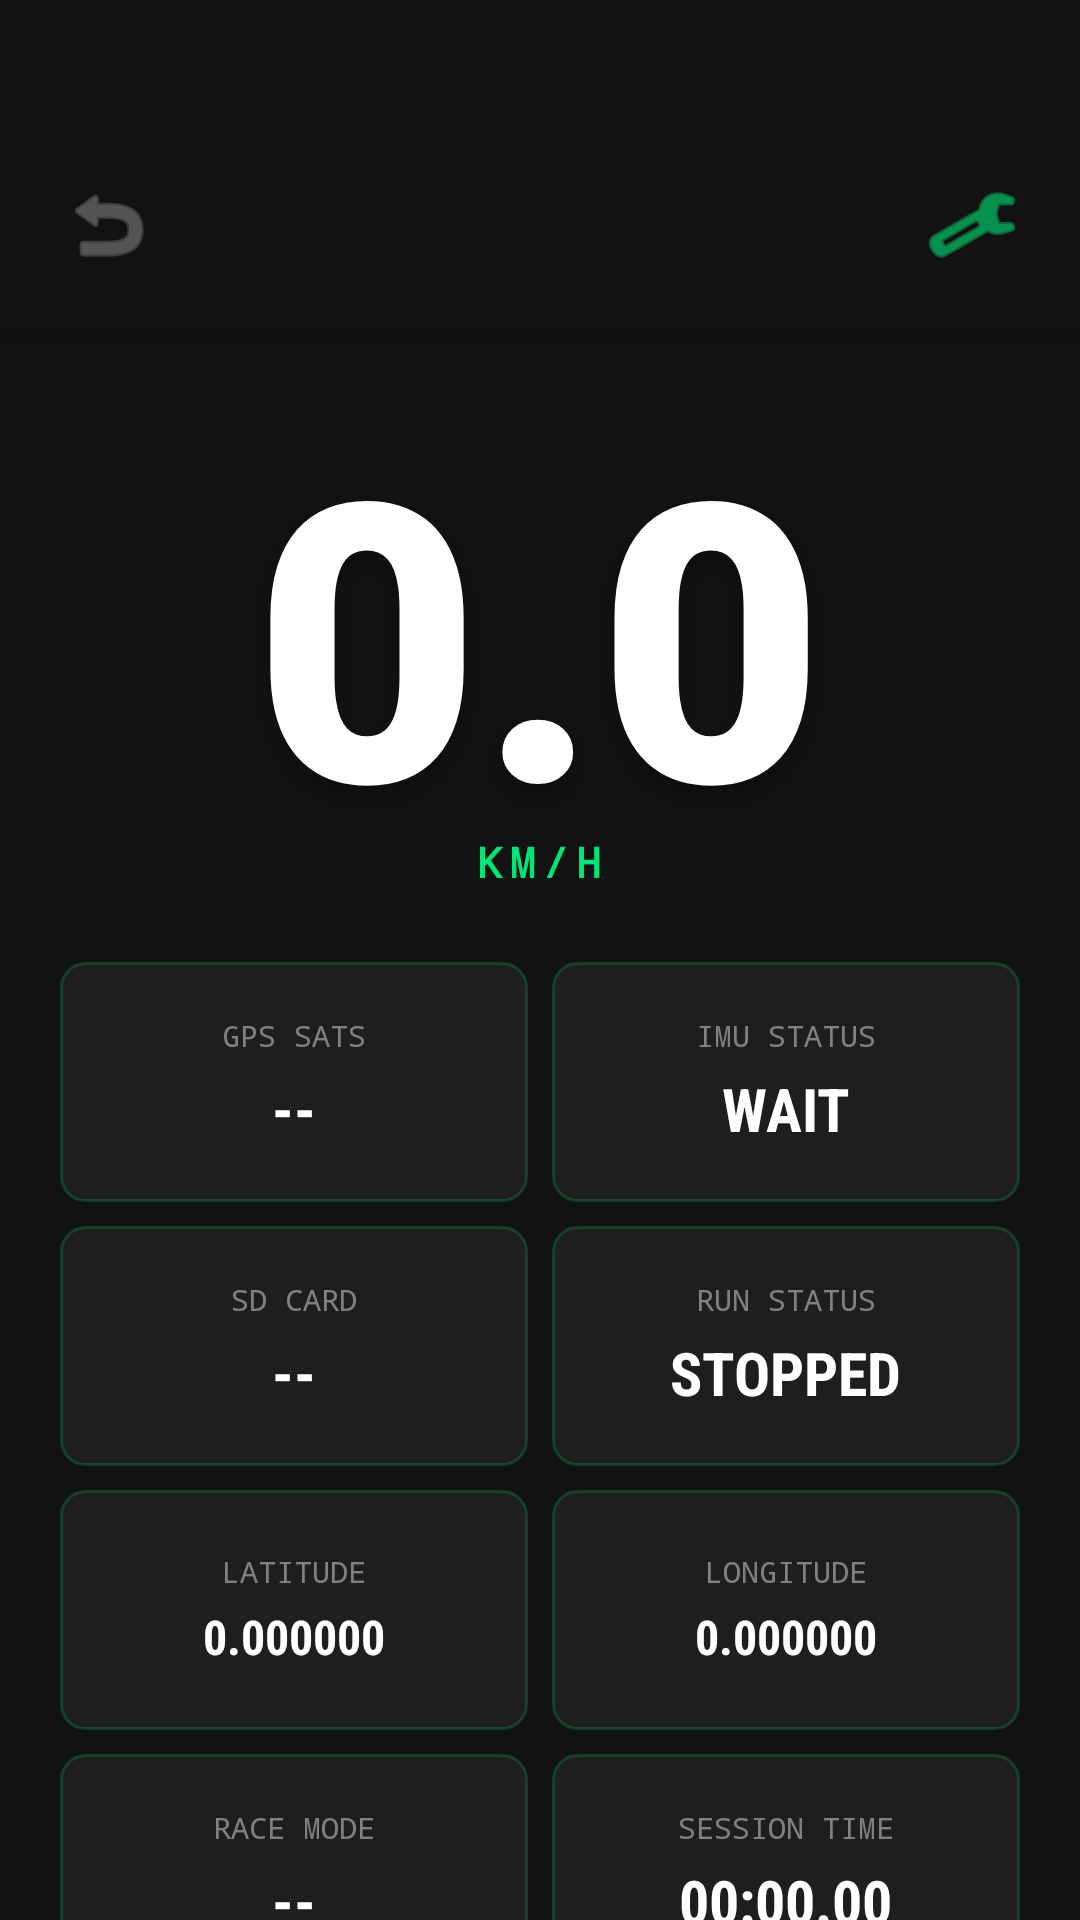

Where to tap for icons on this 1080px x 1920px app screen, as (x,y):
manage: (972,225)
revert: (109,226)
